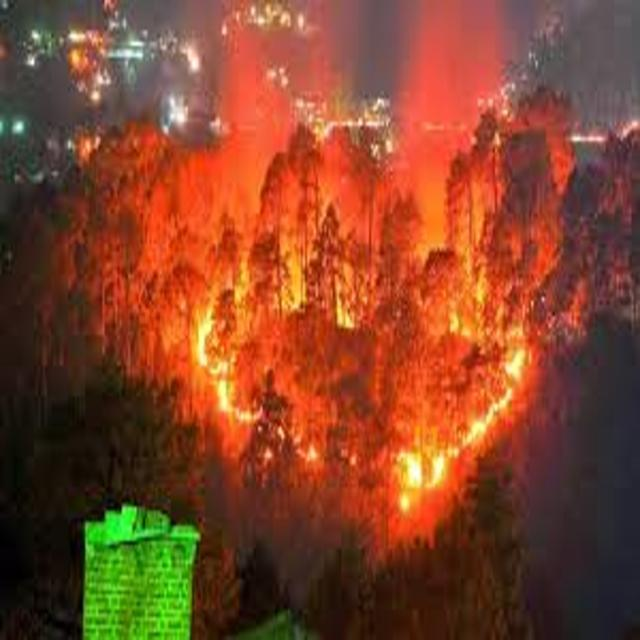Fire: (188, 268, 548, 514)
Smoke: (222, 1, 341, 173), (526, 0, 640, 153), (405, 0, 506, 143)
